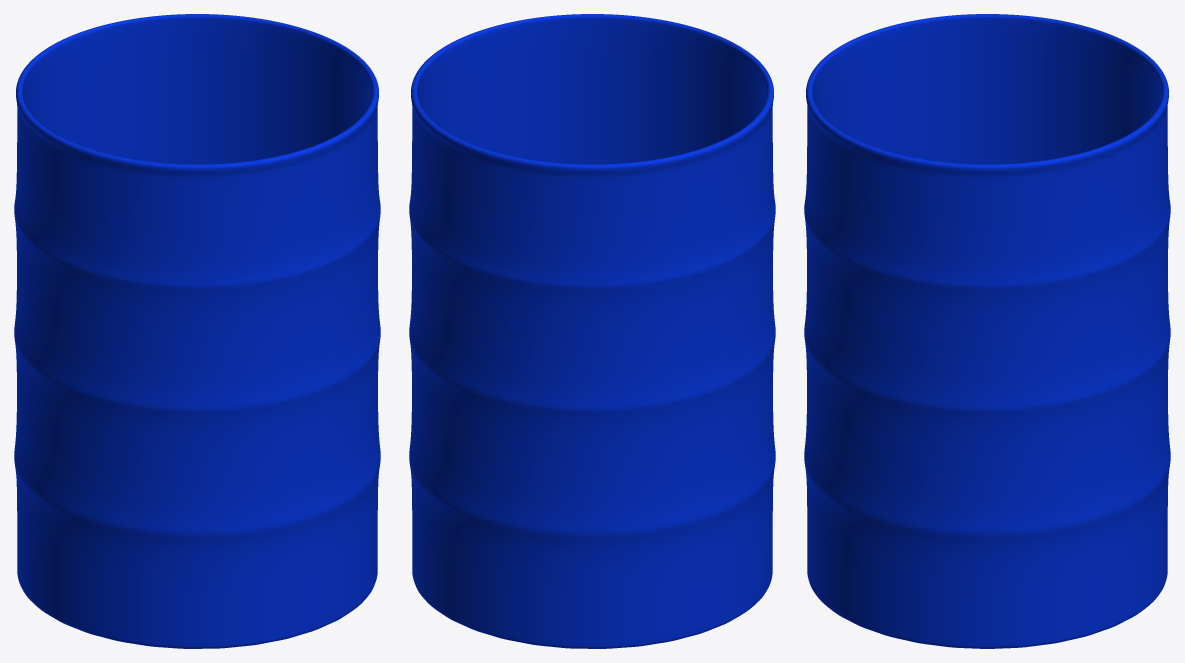
The model's file is Barrel.fbx.
3 renders of one model, left to right at view 1: azimuth 30°, elevation 25°; view 2: azimuth 150°, elevation 25°; view 3: azimuth 270°, elevation 25°, orthographic.
Visible parts, largest first — view 1: Cylinder; view 2: Cylinder; view 3: Cylinder.
Boxes of the visible parts, x1=… form: Cylinder: x1=14, y1=14, x2=380, y2=648; Cylinder: x1=409, y1=14, x2=775, y2=648; Cylinder: x1=804, y1=14, x2=1170, y2=648.
Size of the model in its own units: 534 by 781 by 534.
